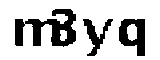3: (61, 8, 80, 50)
m: (9, 17, 60, 49)
q: (116, 15, 149, 60)
y: (80, 15, 113, 60)
